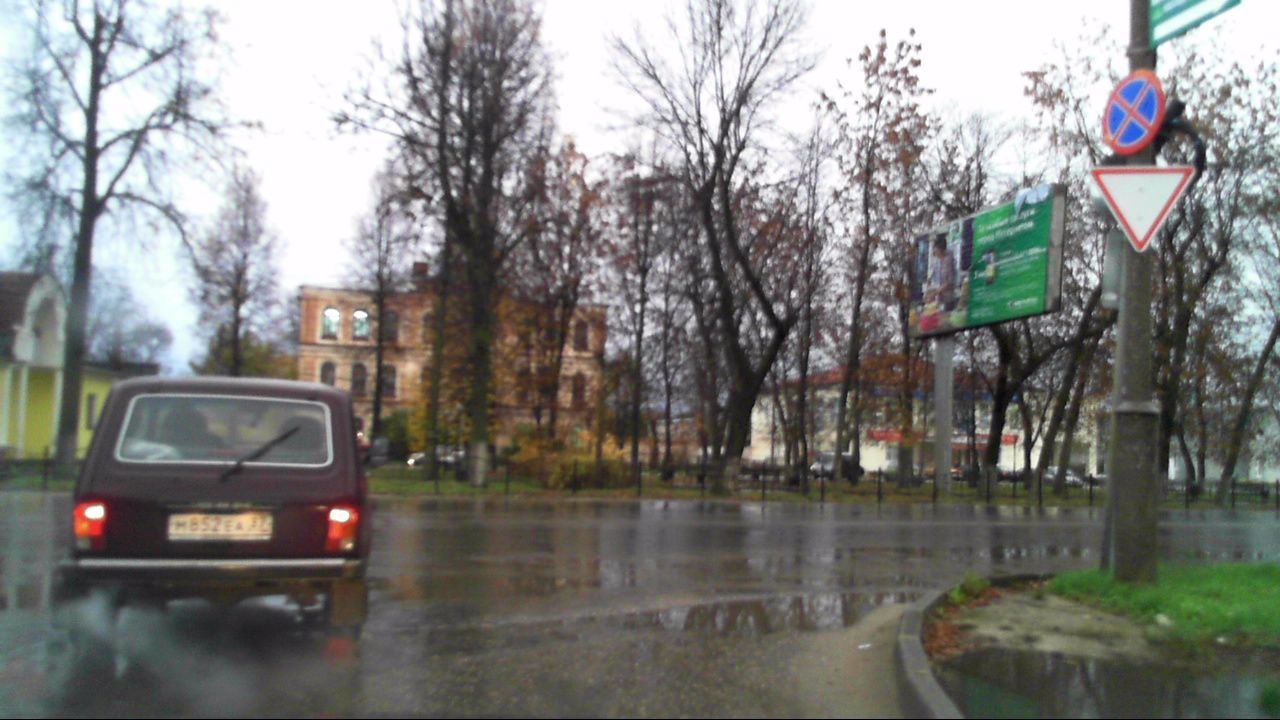No Parking: (1103, 69, 1164, 156)
